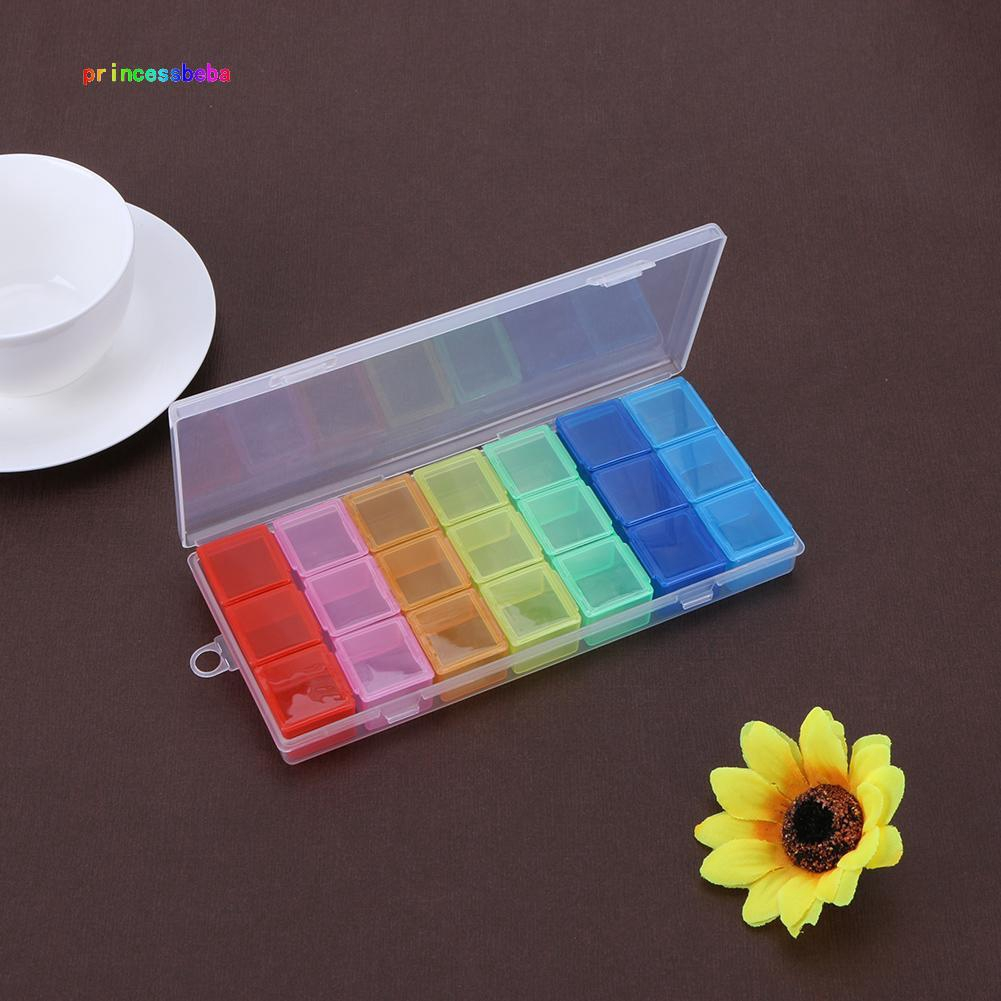PlasticBox: (160, 214, 812, 780)
